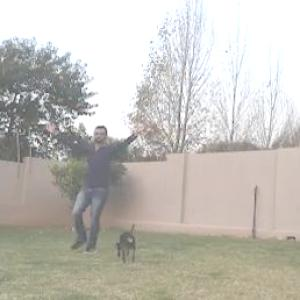takeoff: (50, 124, 152, 252)
